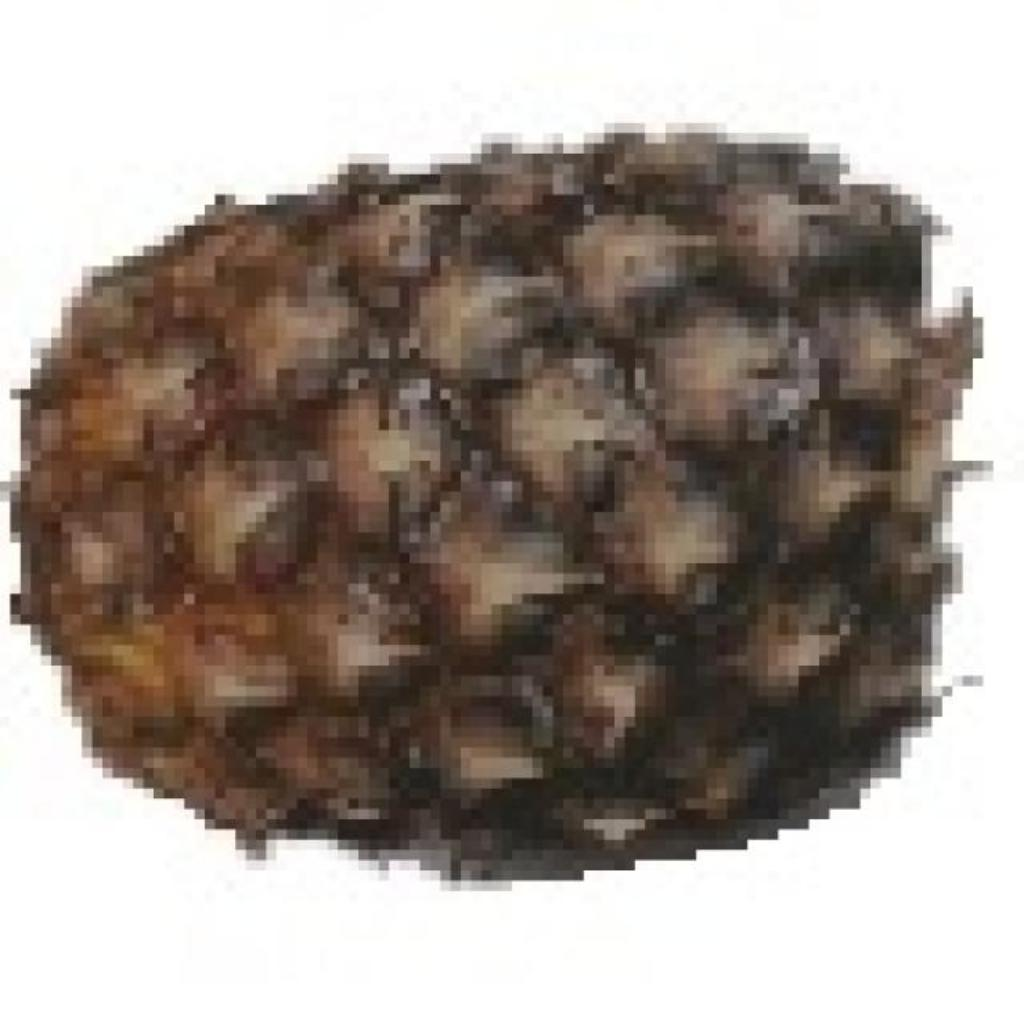pineapple: (10, 123, 963, 850)
